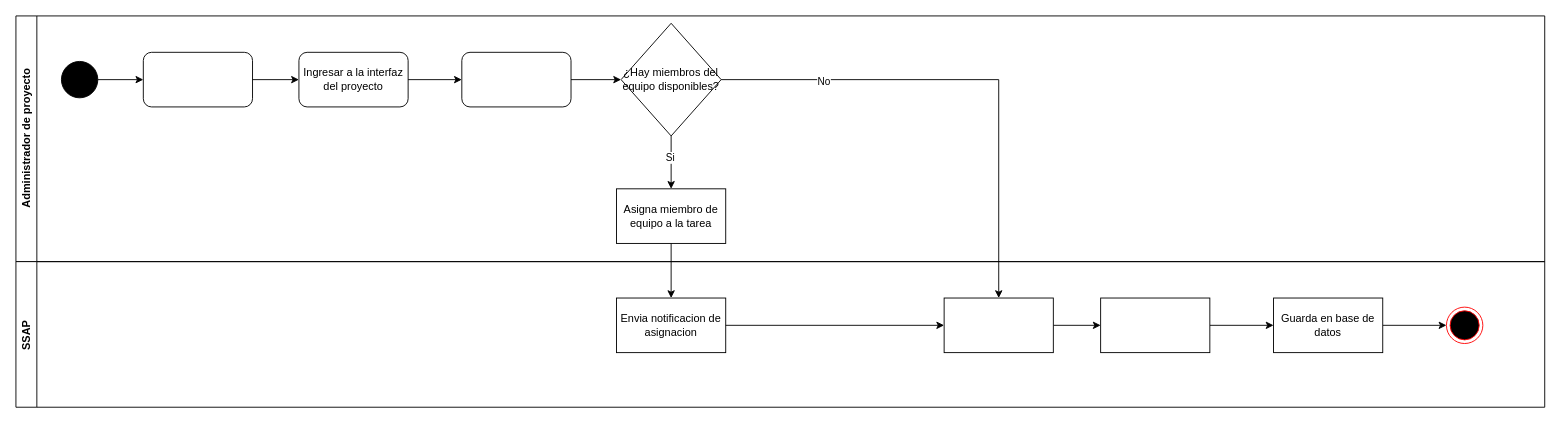
The diagram is 1561 pixels wide and 423 high, and some of its shapes have lost their labels. Each missing label, with the centre of its shape:
"Asociar la tarea al proyecto" belongs at [1155,325].
"Genera un identificador unico" belongs at [998,325].
"Ingresar datos solicitados" belongs at [516,79].
"Iniciar sesión en el sistema SSAP" belongs at [197,79].
